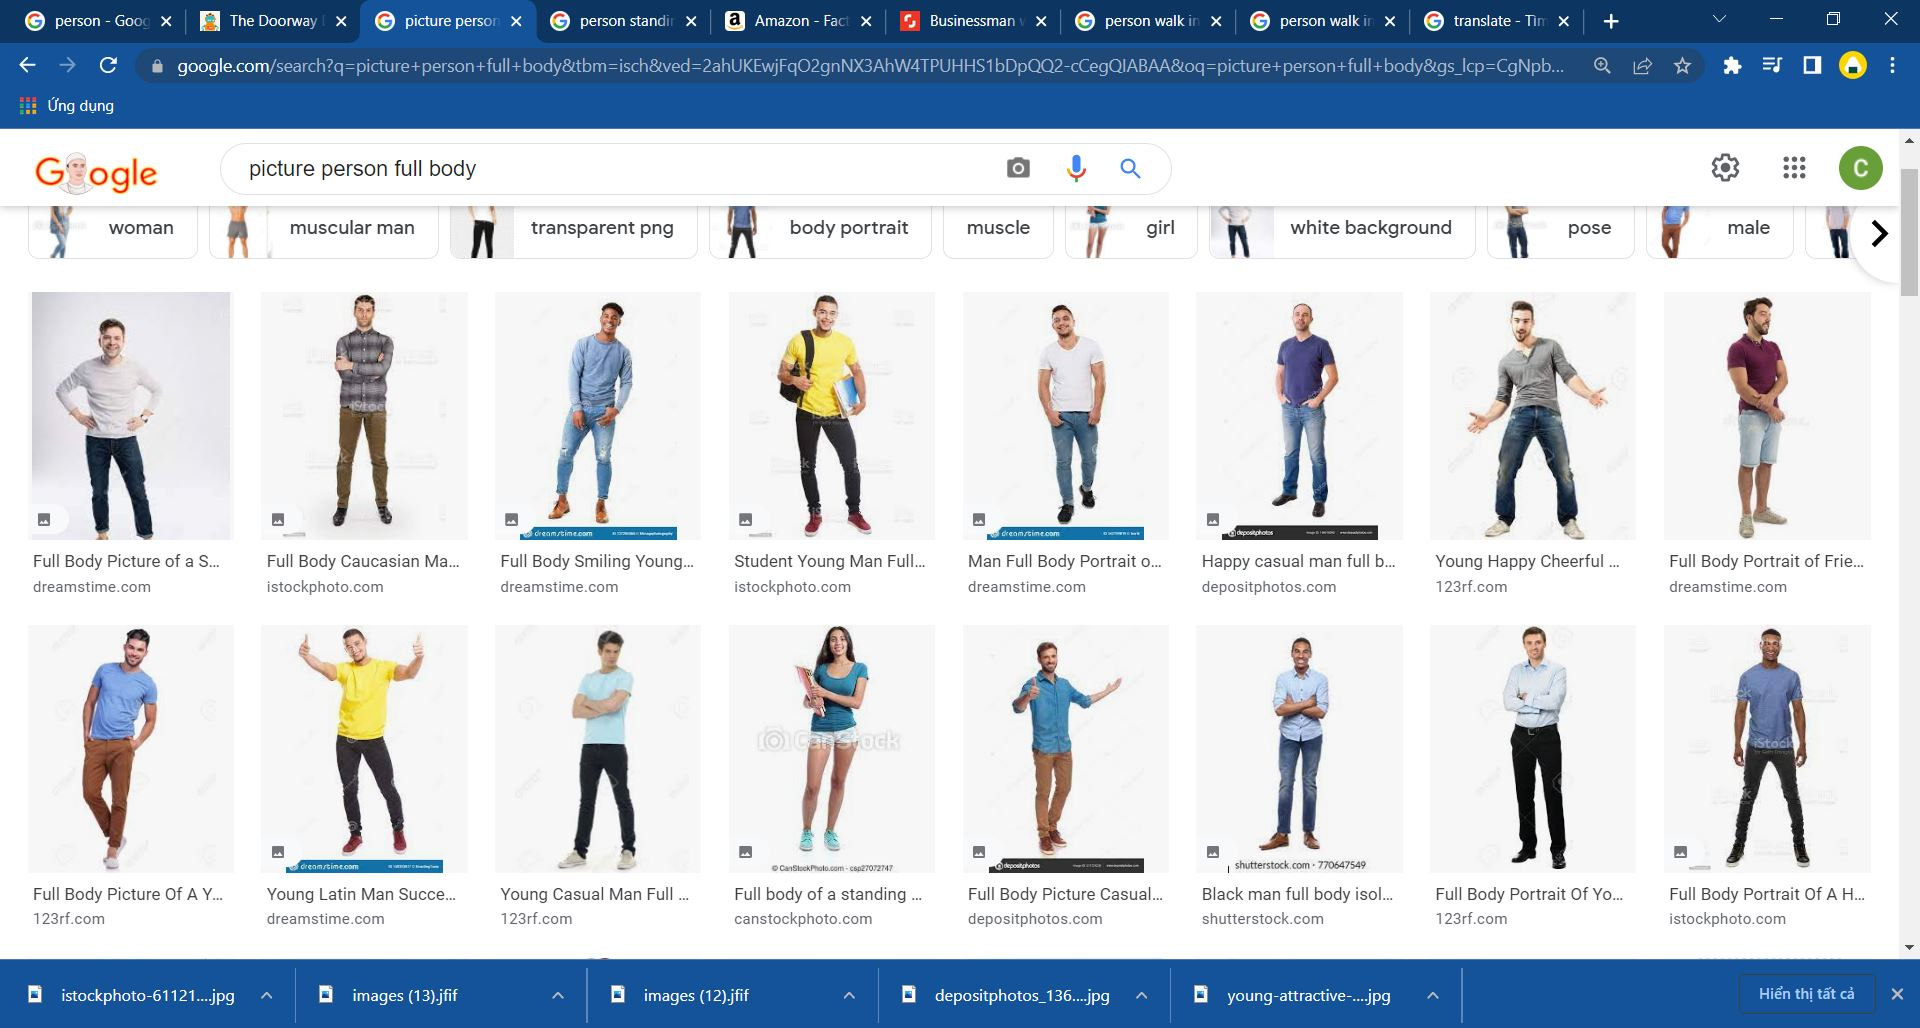person: (1469, 300, 1605, 537), (298, 630, 425, 852), (55, 316, 160, 539), (779, 297, 874, 534), (1014, 644, 1121, 852), (556, 630, 641, 870), (80, 629, 159, 871), (548, 300, 633, 523), (1729, 633, 1810, 866), (1719, 296, 1788, 538), (798, 629, 869, 853), (330, 294, 397, 525), (1503, 629, 1567, 868), (1038, 306, 1106, 524), (1261, 641, 1328, 852), (1275, 306, 1337, 518)
